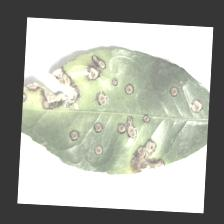canker: (32, 54, 166, 179)
